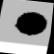correct: (10, 8, 52, 38)
